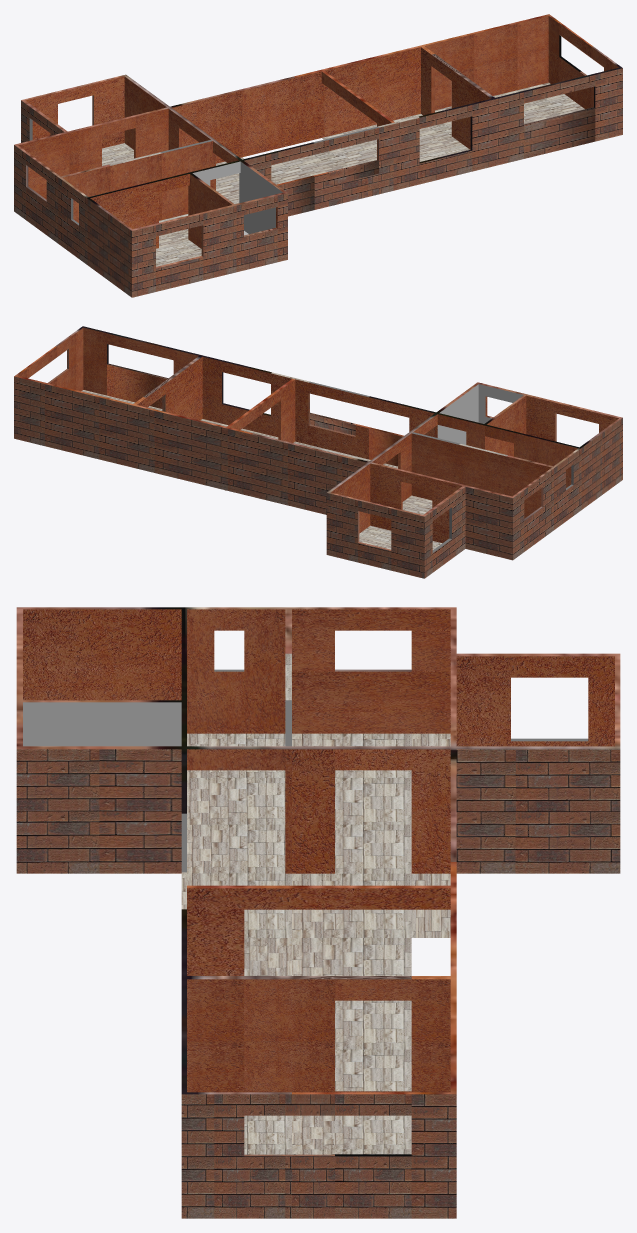
Rendered from Fachada2.obj.
3 views of the same model, one above another, from view 1: azimuth 30°, elevation 25°; view 2: azimuth 150°, elevation 25°; view 3: azimuth 270°, elevation 25° (orthographic). The views are drawn at different scales.
Parts seen in each view (by area): view 1: polySurface806; view 2: polySurface806; view 3: polySurface806.
Part boxes in pixels (x1=…): polySurface806: x1=14, y1=14, x2=622, y2=297; polySurface806: x1=14, y1=326, x2=622, y2=578; polySurface806: x1=16, y1=607, x2=620, y2=1218.
Size of the model in its own units: 140 by 17.53 by 73.55.
